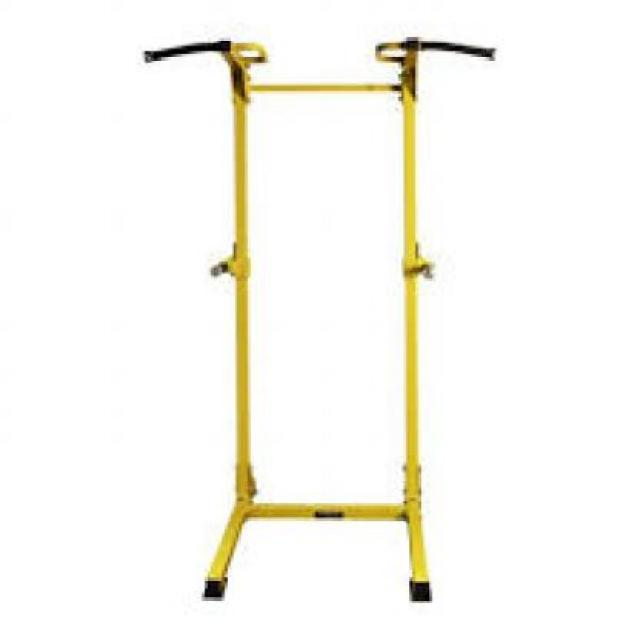chinning dipping: (142, 36, 496, 598)
